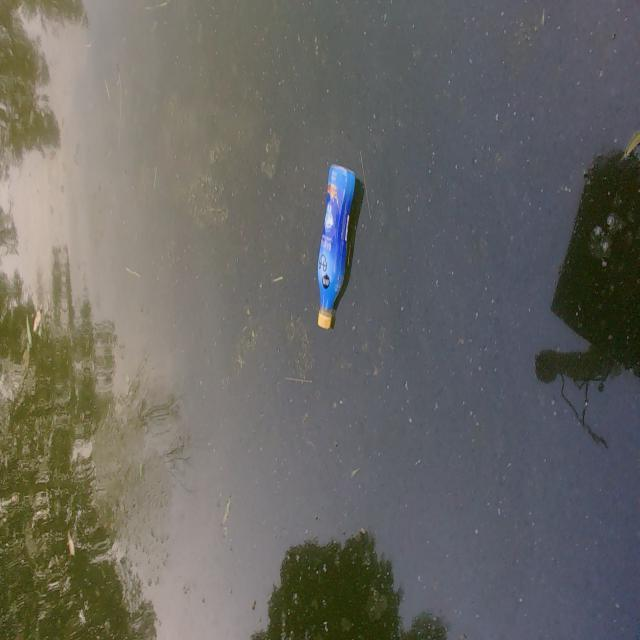bottle: (296, 125, 384, 352)
